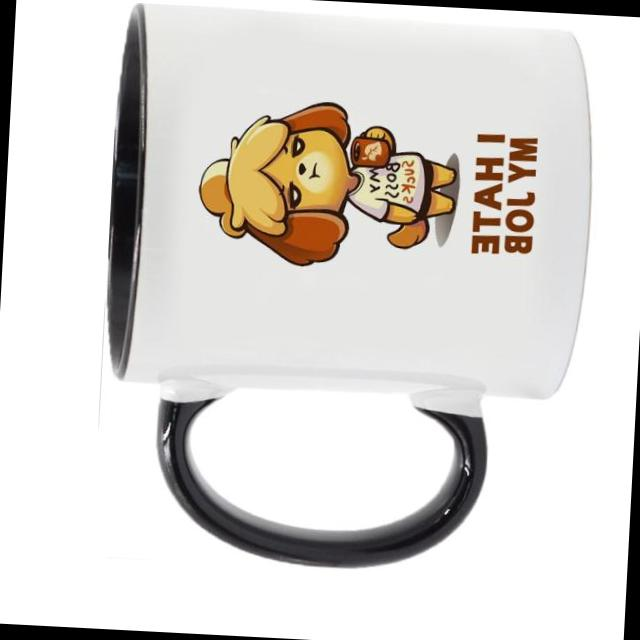Coffee Mug: (93, 2, 602, 580)
